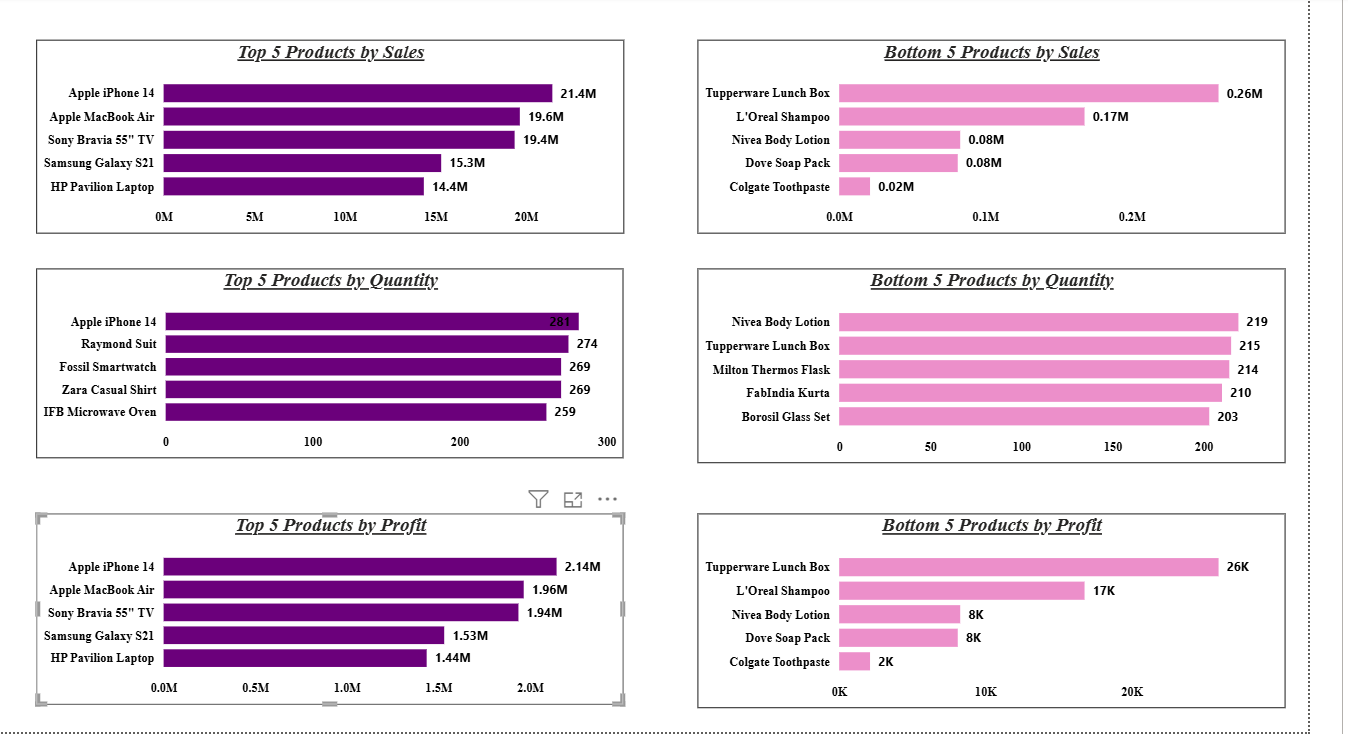

What the dashboard file says about the page in this screenshot:
{"tool":"powerbi","page":{"name":"Top/Bottom Analysis","canvas":[1280,720],"ordinal":0},"visuals":[{"type":"barChart","title":"Top 5 Products by Sales","fields":{"Category":["Dim Product.Product Name"],"Y":["Sum(Fact Table.Net Sales    )"]},"box":[35.7,42.5,575,189.4],"z":0},{"type":"barChart","title":"Bottom 5 Products by Sales","fields":{"Category":["Dim Product.Product Name"],"Y":["Sum(Fact Table.Net Sales    )"]},"box":[682,42.5,575,189.4],"z":1000},{"type":"barChart","title":"Top 5 Products by Quantity","fields":{"Category":["Dim Product.Product Name"],"Y":["Sum(Fact Table.Units Sold)"]},"box":[35.5,266.6,574.7,185.9],"z":2000},{"type":"barChart","title":"Bottom 5 Products by Quantity","fields":{"Category":["Dim Product.Product Name"],"Y":["Sum(Fact Table.Units Sold)"]},"box":[682,266.2,575,190.7],"z":3000},{"type":"barChart","title":"Top 5 Products by Profit","fields":{"Category":["Dim Product.Product Name"],"Y":["Sum(Fact Table.Profit Column)"]},"box":[35.5,506.3,574.7,187.1],"z":4000},{"type":"barChart","title":"Bottom 5 Products by Profit","fields":{"Category":["Dim Product.Product Name"],"Y":["Sum(Fact Table.Profit Column)"]},"box":[682,506.3,575,190.7],"z":5000}]}

Visuals, with their boxes on the page's 1280x720 design canvas (x1, y1, x2, y2). These are canvas units, not pixel positions in the 1348x734 screenshot, which may show the page scaled, cropped or inside an application window:
"Top 5 Products by Sales" barChart: (left=36, top=42, right=611, bottom=232)
"Bottom 5 Products by Sales" barChart: (left=682, top=42, right=1257, bottom=232)
"Top 5 Products by Quantity" barChart: (left=36, top=267, right=610, bottom=452)
"Bottom 5 Products by Quantity" barChart: (left=682, top=266, right=1257, bottom=457)
"Top 5 Products by Profit" barChart: (left=36, top=506, right=610, bottom=693)
"Bottom 5 Products by Profit" barChart: (left=682, top=506, right=1257, bottom=697)
